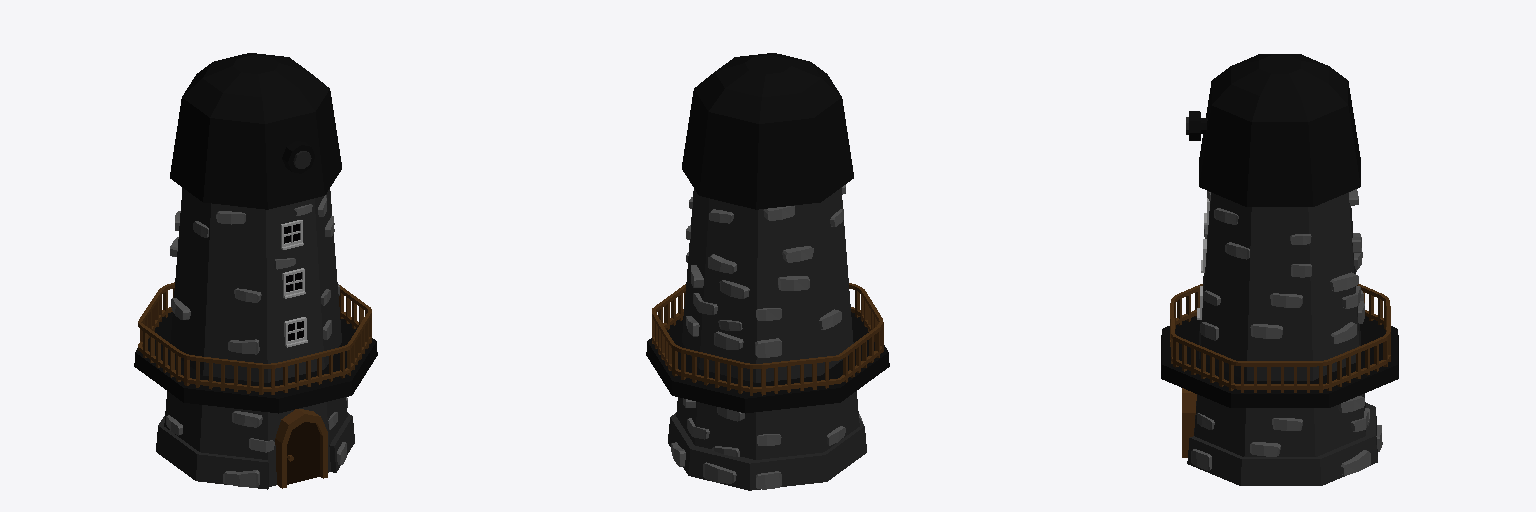
File: TowerWindmill_Cylinder.obj
3 views of the same model, side by side, from view 1: azimuth 30°, elevation 25°; view 2: azimuth 150°, elevation 25°; view 3: azimuth 270°, elevation 25° (orthographic).
Parts seen in each view (by area): view 1: TowerWindmill_Cylinder.008; view 2: TowerWindmill_Cylinder.008; view 3: TowerWindmill_Cylinder.008.
Part boxes in pixels (left/top/right/bottom): TowerWindmill_Cylinder.008: left=134, top=53, right=377, bottom=489; TowerWindmill_Cylinder.008: left=646, top=53, right=889, bottom=490; TowerWindmill_Cylinder.008: left=1161, top=54, right=1398, bottom=485.
Bounding box in the file's own units: 4.7 × 8.87 × 4.99.